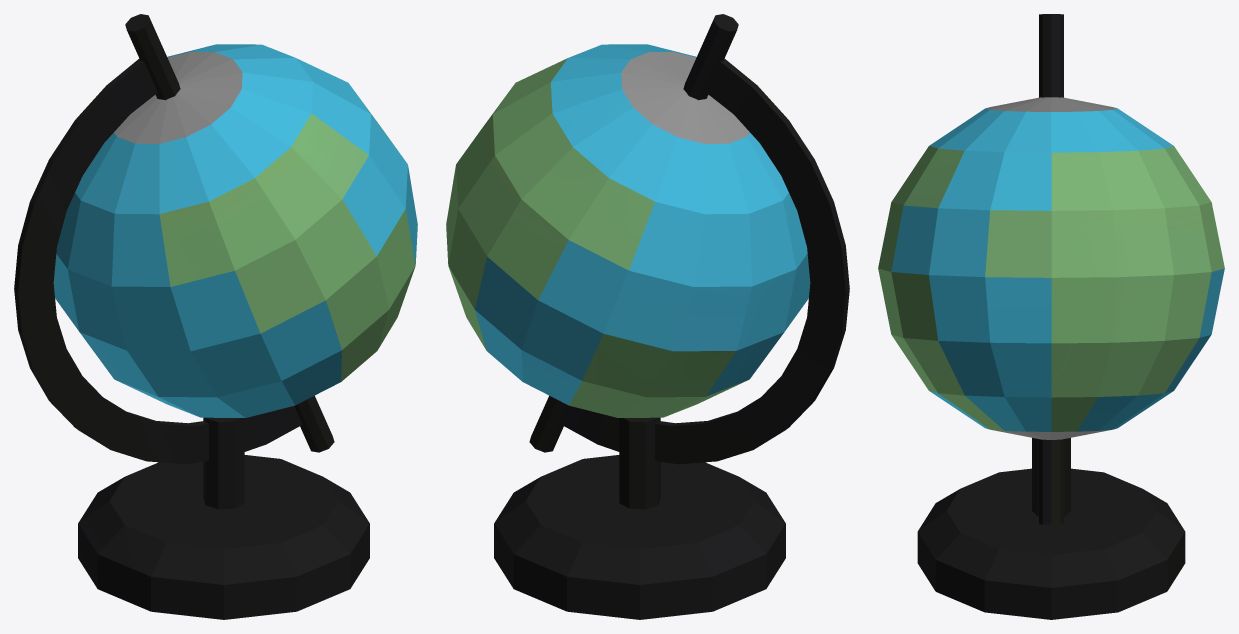
Rendered from globe.glb.
The picture shows the model from 3 angles, left to right: view 1: azimuth 30°, elevation 25°; view 2: azimuth 150°, elevation 25°; view 3: azimuth 270°, elevation 25°; orthographic projection. The views are drawn at different scales.
Parts seen in each view (by area): view 1: Globe; view 2: Globe; view 3: Globe.
Boxes of the visible parts, box(x1,y1,x2,y2) form: Globe: box(14, 14, 417, 619); Globe: box(446, 14, 849, 619); Globe: box(878, 14, 1224, 619).
Size of the model in its own units: 1.41 by 2 by 1.22.
Materials: 1 (1 with a texture image).
